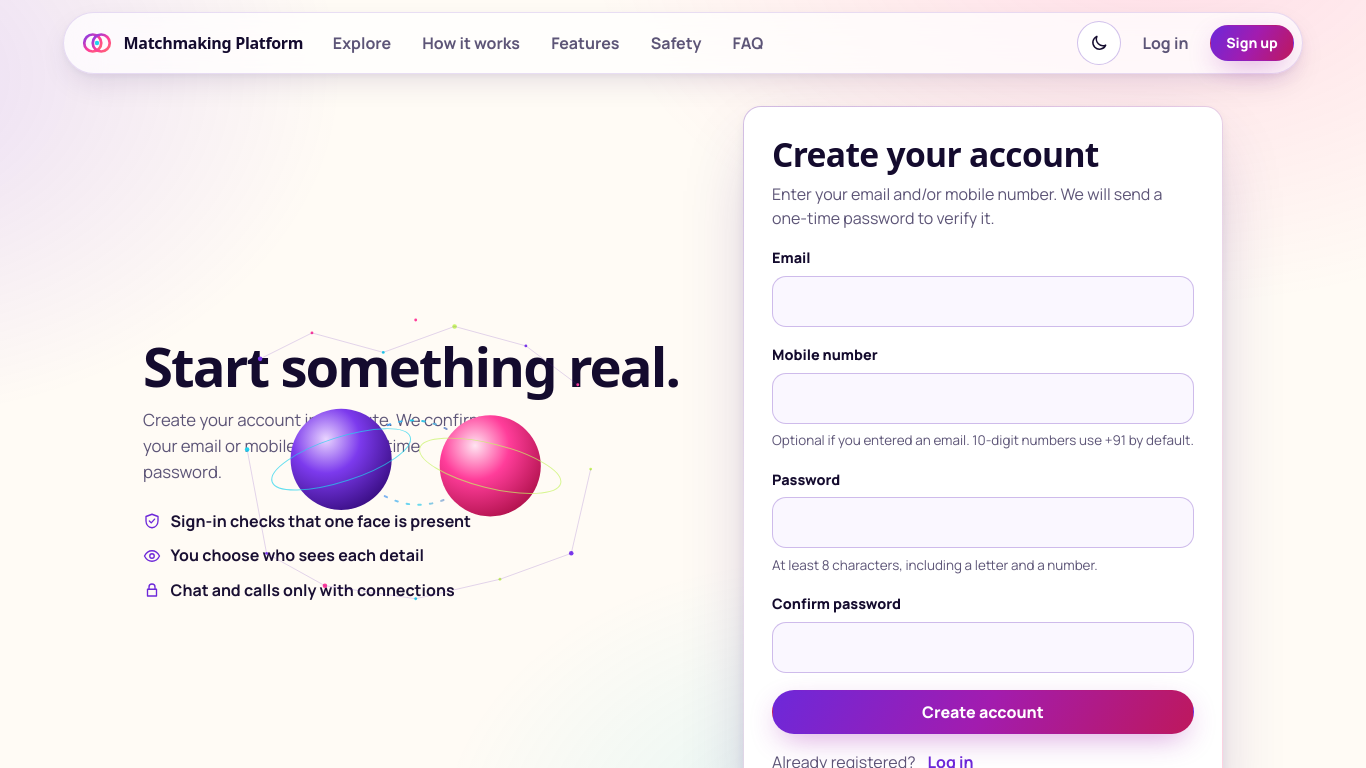
Test: registration page › shows server field errors (duplicate email)
Step 1. Type "asha@example.com" into the field labelled "Email" → point(983, 301), box x1=772 y1=276 x2=1194 y2=327
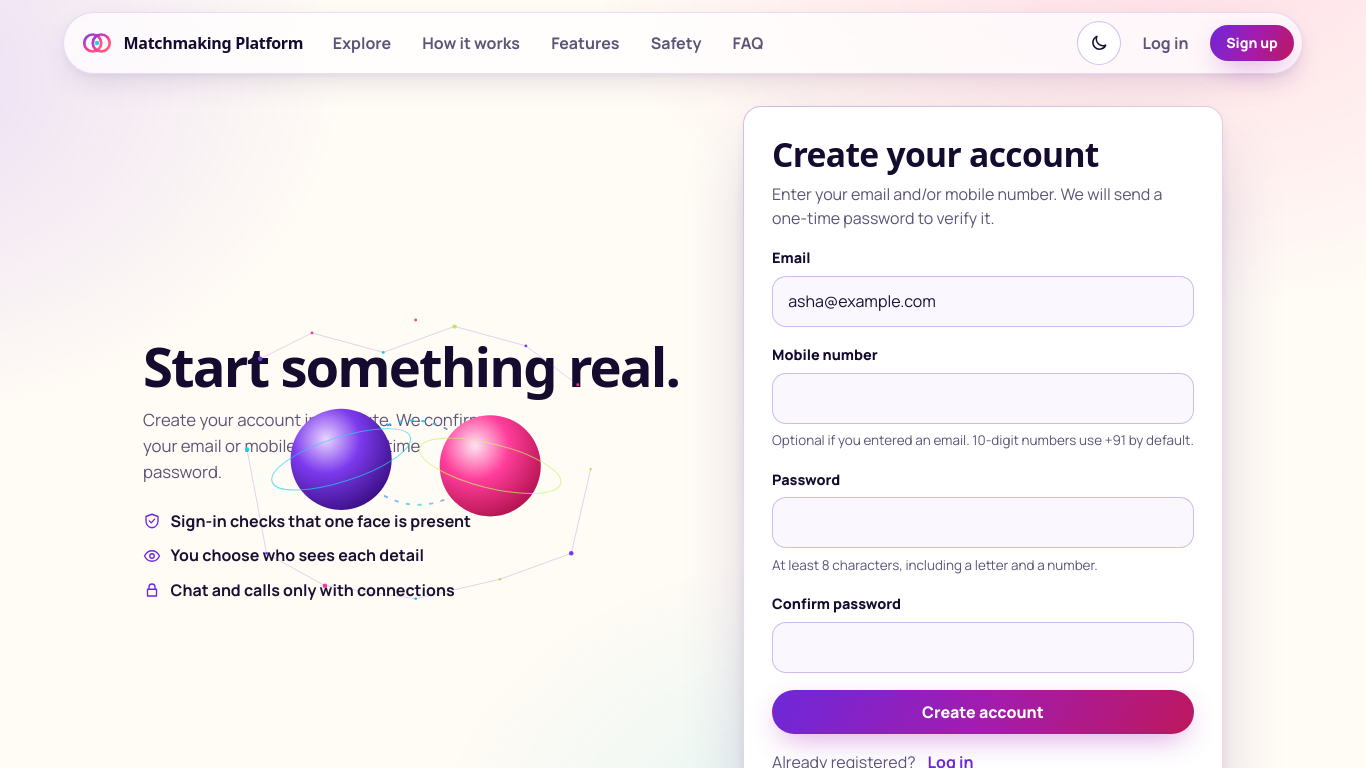
Step 2. Type "Secure123" into the password field labelled "Password" → point(983, 523), box x1=772 y1=497 x2=1194 y2=548
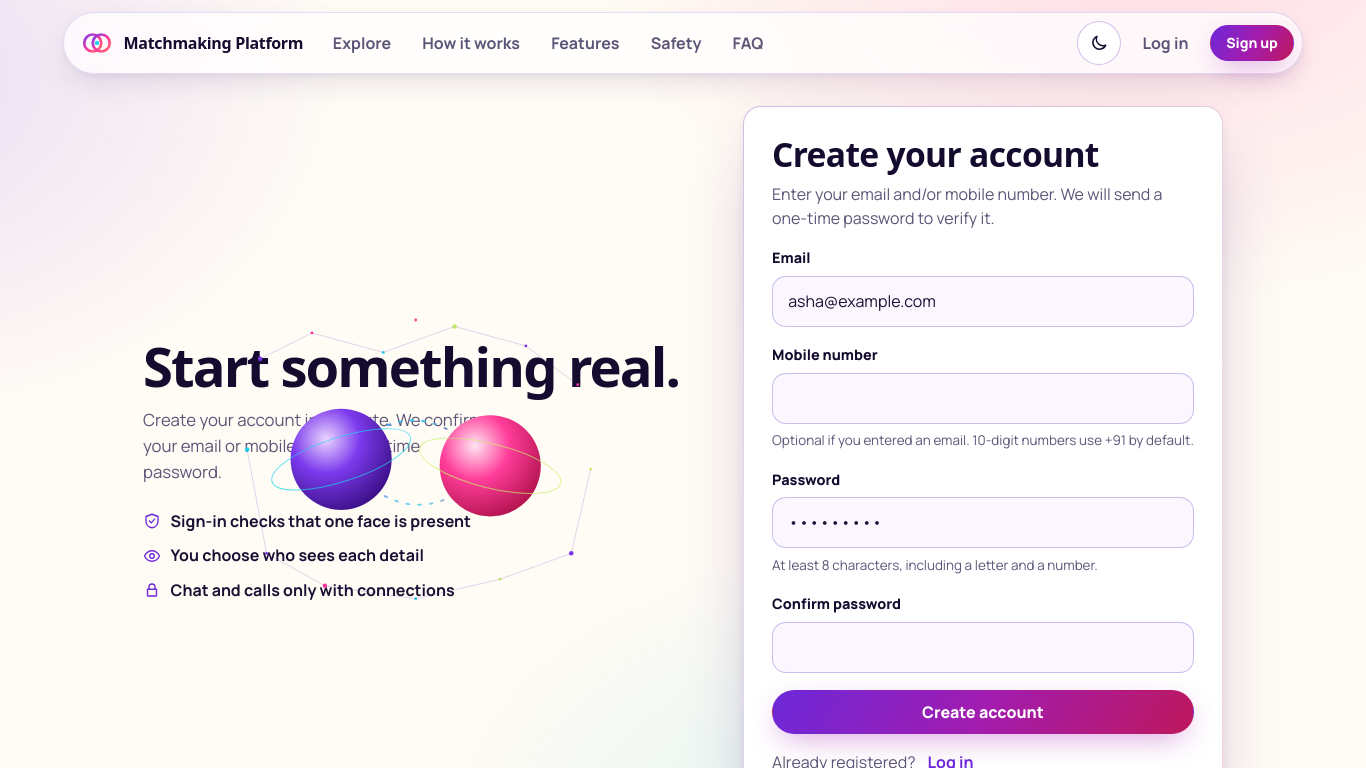
Step 3. Type "Secure123" into the password field labelled "Confirm password" → point(983, 647), box x1=772 y1=622 x2=1194 y2=672
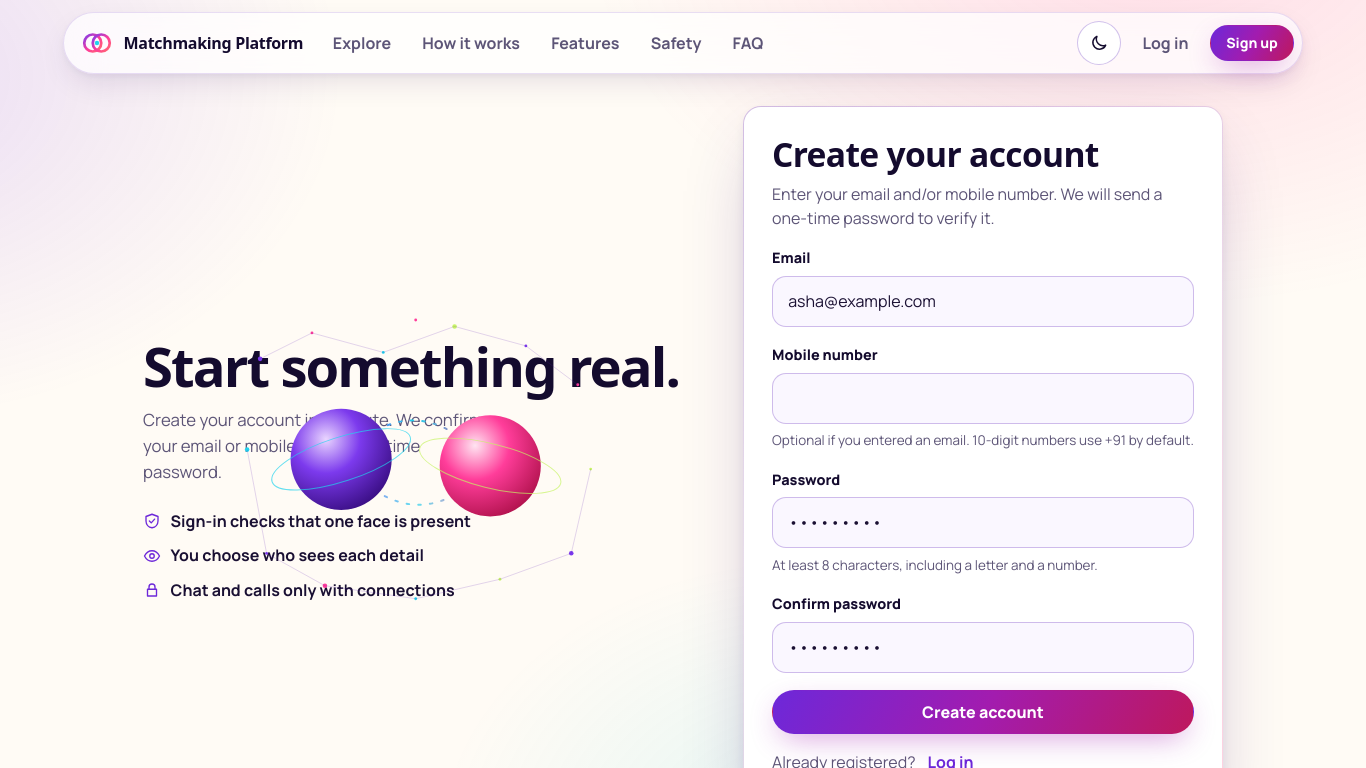
Step 4. Click the button "Create account" → point(983, 712), box x1=772 y1=690 x2=1194 y2=734
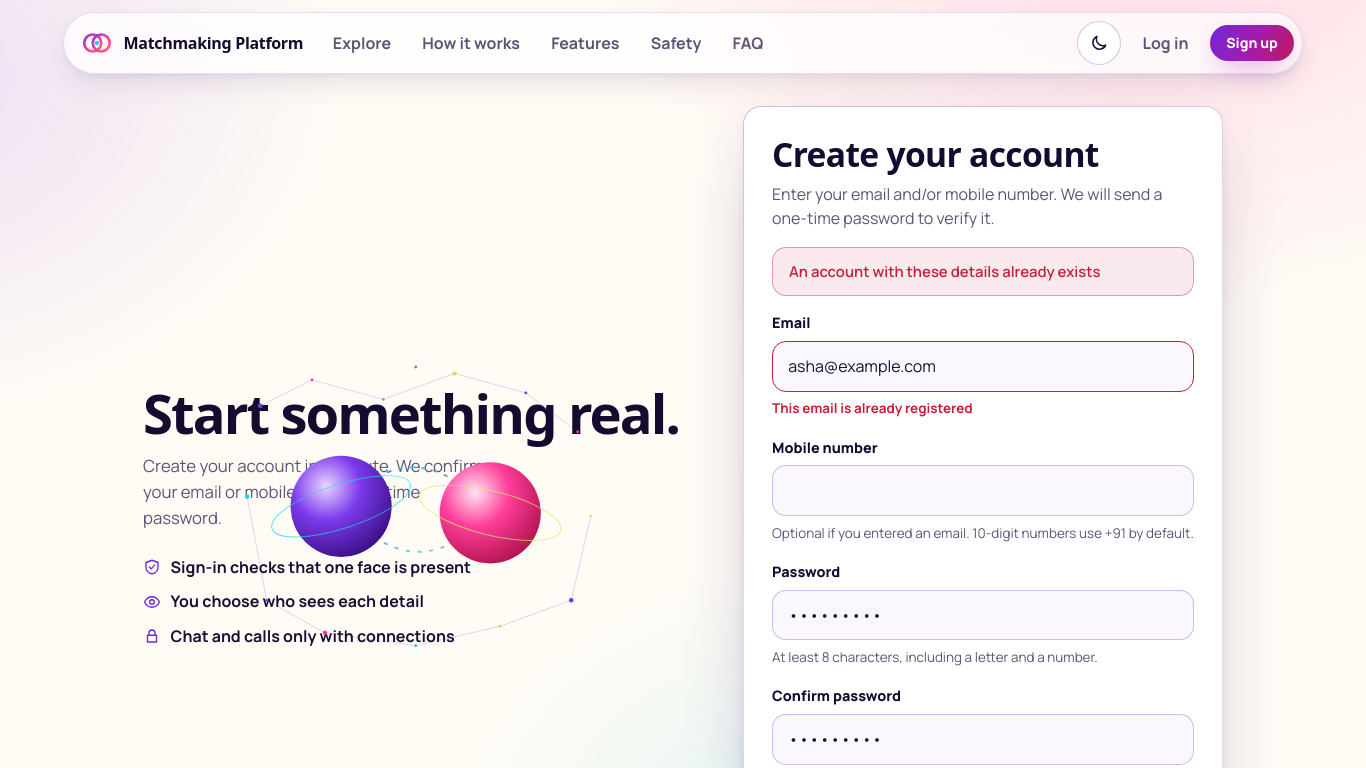
Result: the text "This email is already registered" is shown at x1=772 y1=399 x2=973 y2=417
Result: the message reads "An account with these details already exists" at x1=789 y1=261 x2=1100 y2=281
